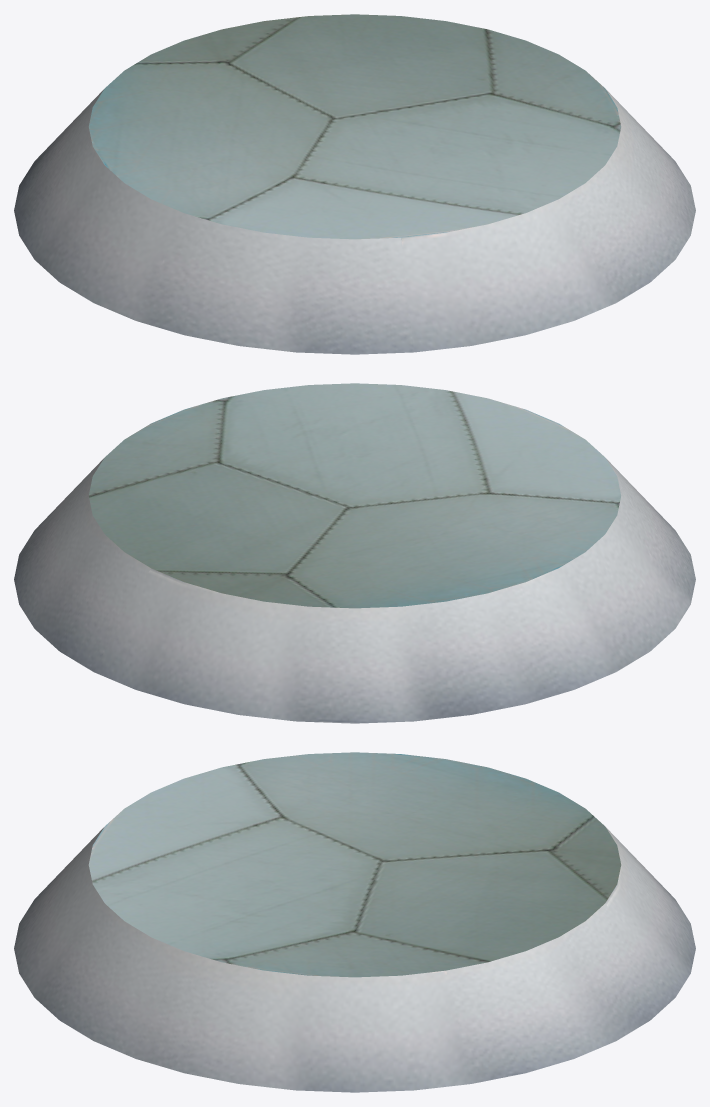
Rendered from Plataforma.obj.
3 renders of one model, top to bottom at view 1: azimuth 30°, elevation 25°; view 2: azimuth 150°, elevation 25°; view 3: azimuth 270°, elevation 25°, orthographic.
Visible parts, largest first — view 1: Plataforma; view 2: Plataforma; view 3: Plataforma.
Part boxes in pixels (box(x1,y1,x2,y2)): Plataforma: box(14, 14, 695, 354); Plataforma: box(14, 383, 695, 723); Plataforma: box(14, 752, 695, 1092).
Bounding box in the file's own units: 3.1 × 0.4192 × 3.1.
